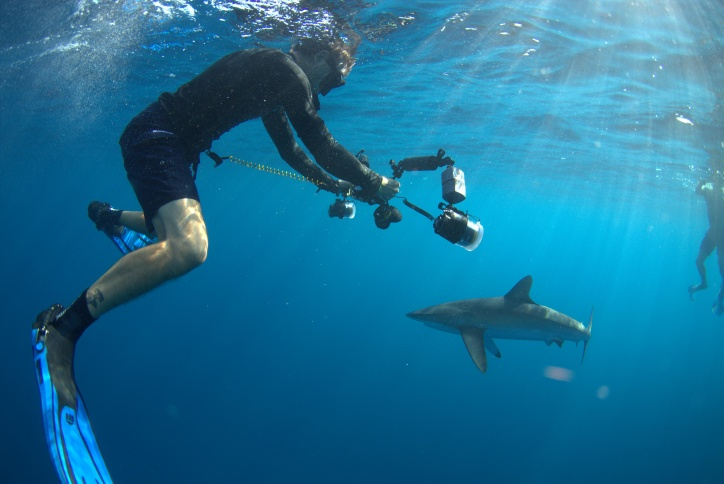Sedoso: (373, 265, 617, 385)
